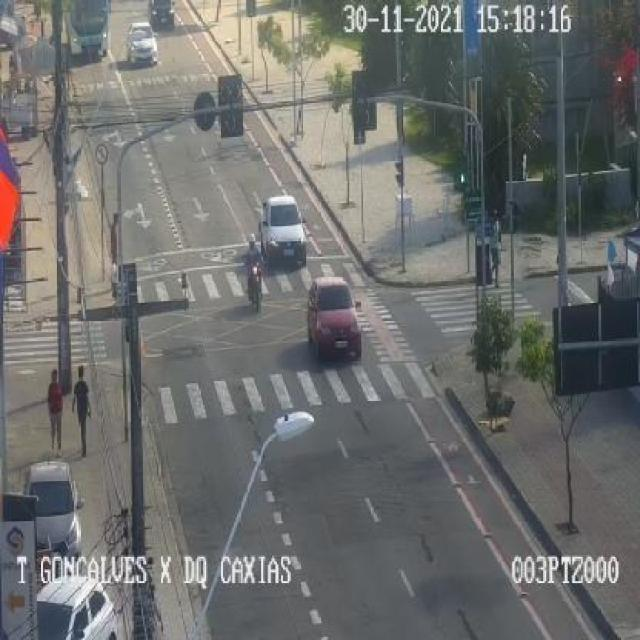Bus: (59, 0, 113, 67)
Car: (12, 552, 125, 640), (291, 261, 377, 371), (11, 450, 86, 558), (251, 185, 327, 276), (128, 16, 167, 68)
Cycle: (232, 235, 285, 320)
